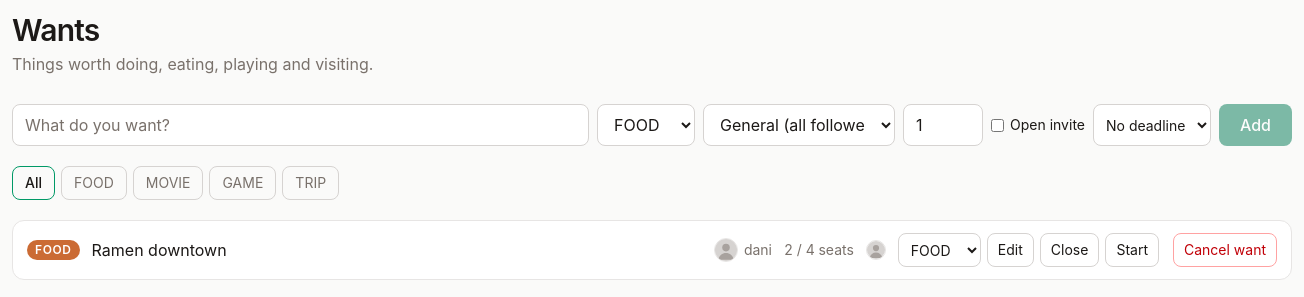
Scenario: Wants › does not offer a capacity below the current one when editing
This screenshot has width=1304, height=297.
Expected: the text "Ramen downtown" is shown, [92,240,227,260]
Click the button "Edit": (1010, 250) [987,233,1034,267]
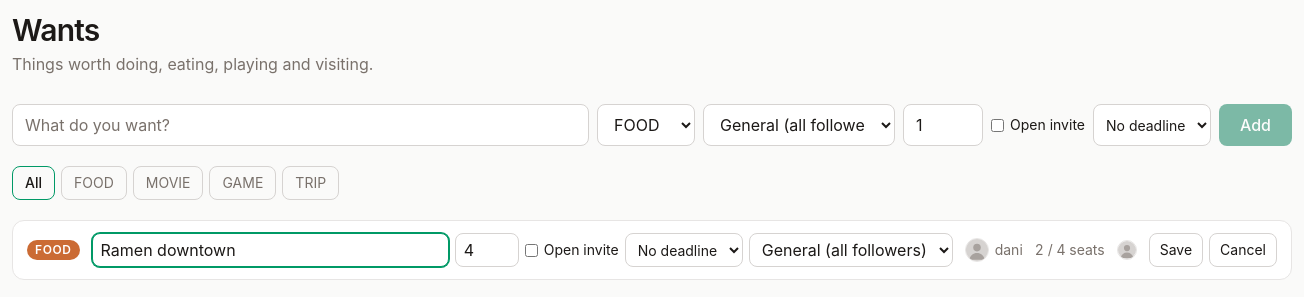
Expected: the number field named "Edit capacity" holds "4", [455,233,519,267]
